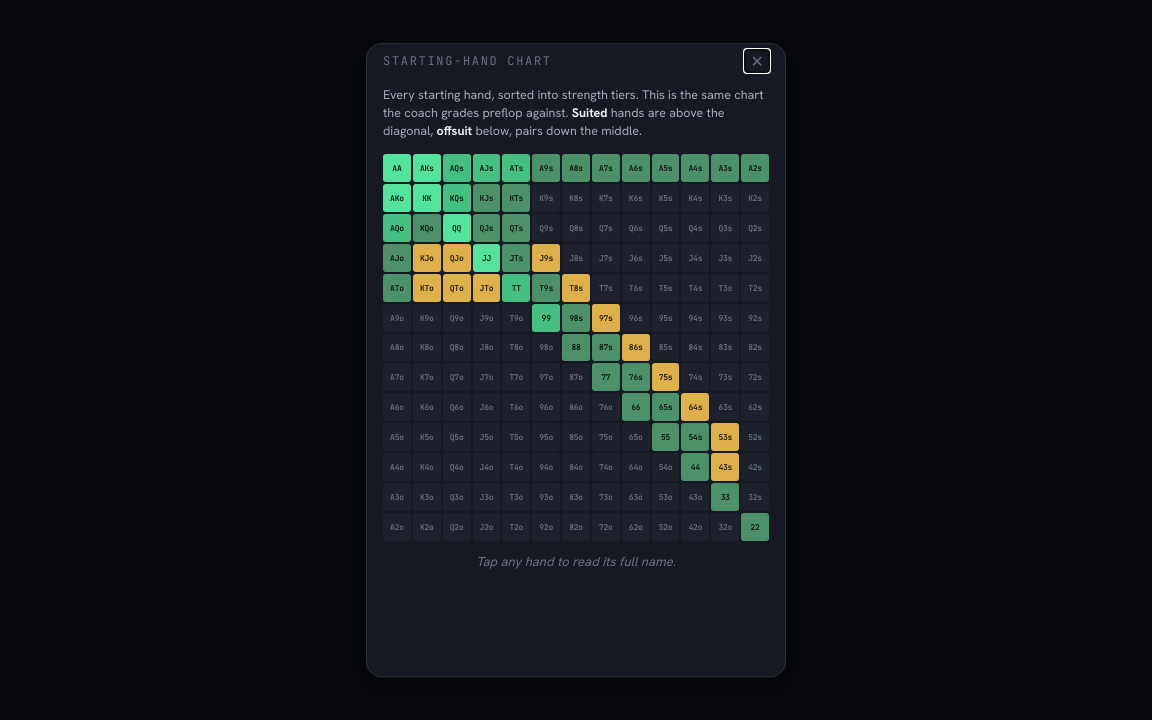
it: ChartOverlay › explains why a tapped hand earns its grade (ticket 0064)
This screenshot has width=1152, height=720.
Click the button titled "K9s, ": (546, 198) [532,184,560,212]
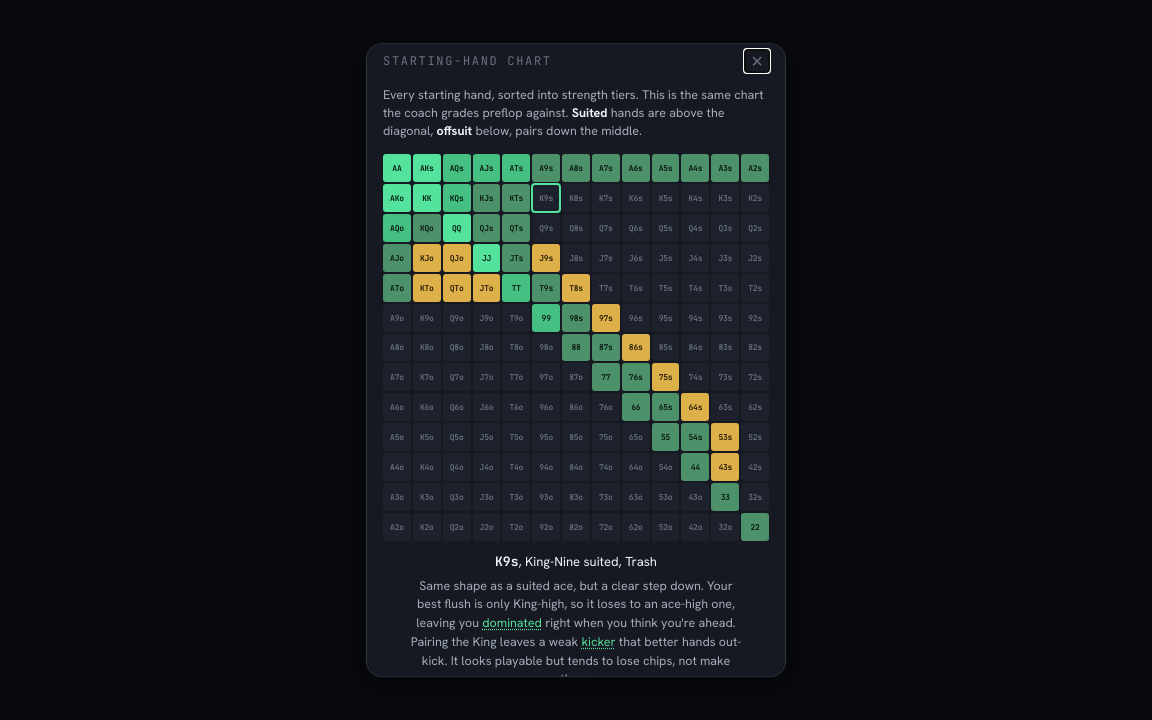
Check: the element with test id "chart-caption-why" shows "King-high", box [416,577,735,631]
Check: the button with test id "glossary-link-dominated" is shown, box [482,614,542,633]
